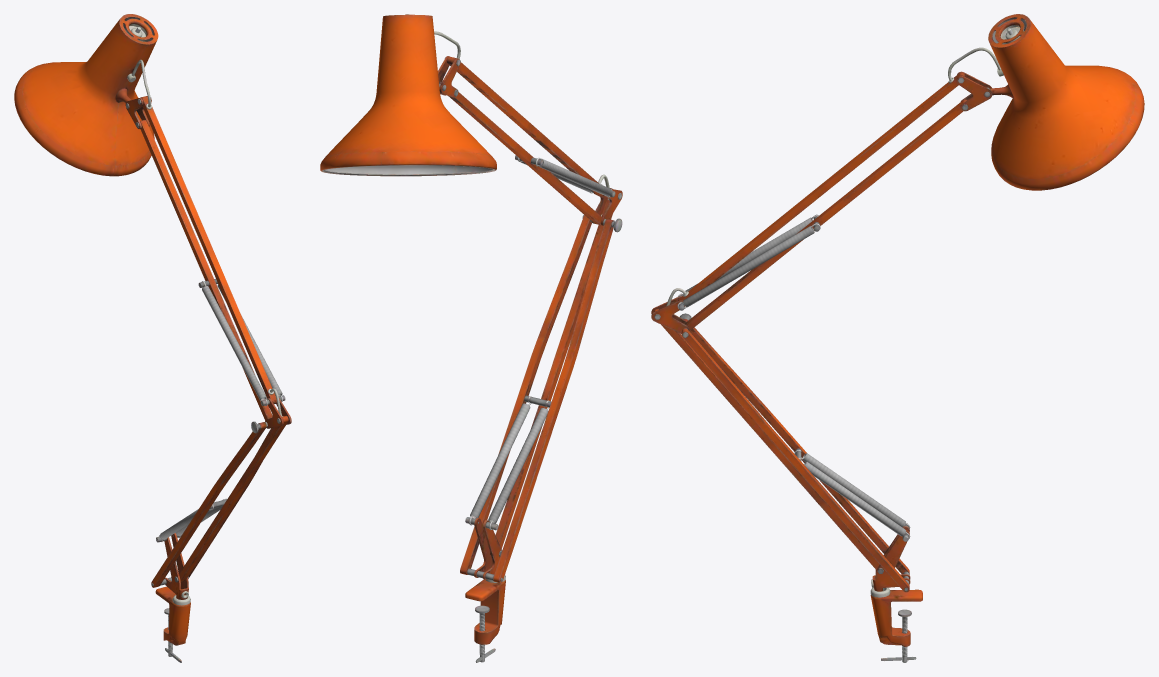
Rendered from desk_lamp_arm_01.glb.
3 renders of one model, left to right at view 1: azimuth 30°, elevation 25°; view 2: azimuth 150°, elevation 25°; view 3: azimuth 270°, elevation 25°, orthographic. The views are drawn at different scales.
Parts seen in each view (by area): view 1: desk_lamp_arm_01; view 2: desk_lamp_arm_01; view 3: desk_lamp_arm_01.
Part boxes in pixels (<box>): desk_lamp_arm_01: <box>14,14,291,662</box>; desk_lamp_arm_01: <box>320,14,622,662</box>; desk_lamp_arm_01: <box>651,14,1144,662</box>.
Bounding box in the file's own units: 0.2018 × 0.8926 × 0.6139.
2 materials, 2 textured.
